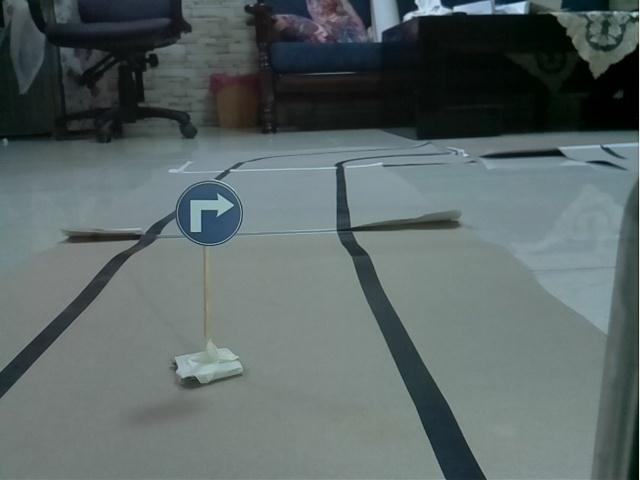turn: (174, 180, 247, 244)
